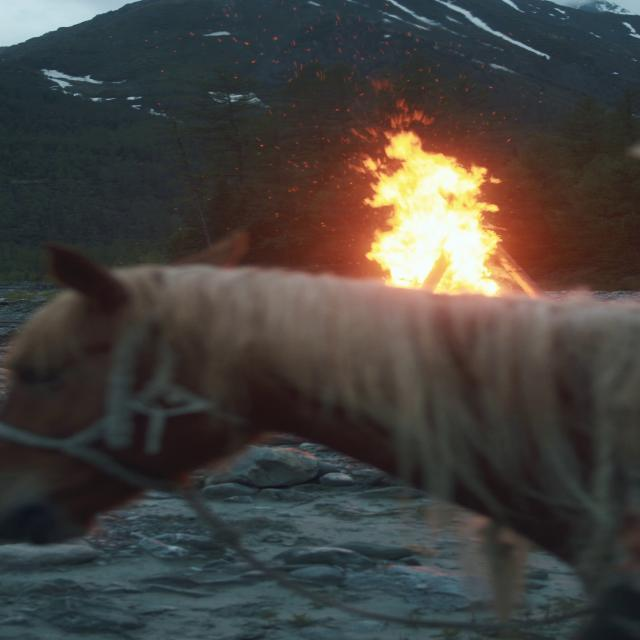Fire: (346, 117, 504, 297)
